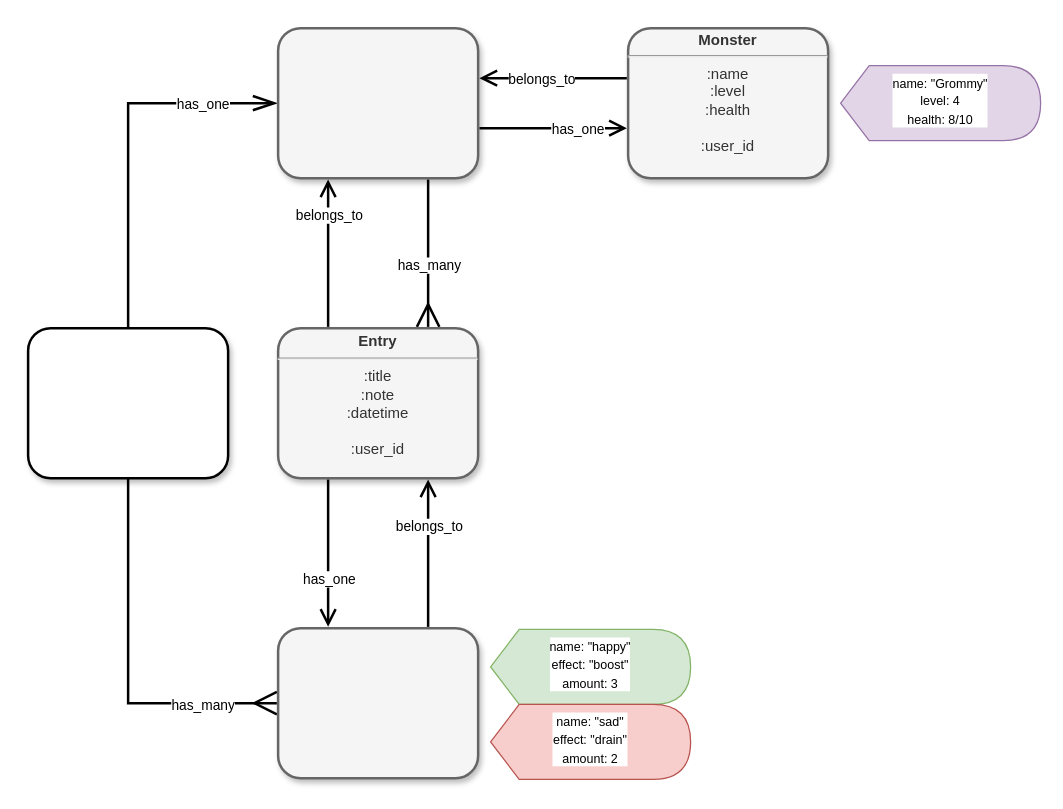
Image size: 1063x809. Some labels were removed from this diagram. The centre of each missing label's shape, as x and y in pixels:
Mood :name :effect :amount :entry_id: (378,704)
User :first_name :last_name :email :password_digest: (378,104)
user_moods :user_id :entry_id: (128,404)
